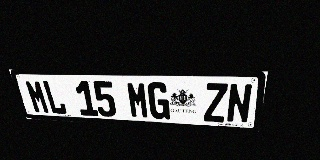1: (73, 81, 99, 116)
5: (92, 81, 117, 117)
G: (147, 82, 170, 120)
L: (41, 80, 68, 115)
M: (24, 80, 51, 114), (126, 81, 150, 119)
N: (226, 83, 253, 123)
Z: (204, 83, 228, 122)
